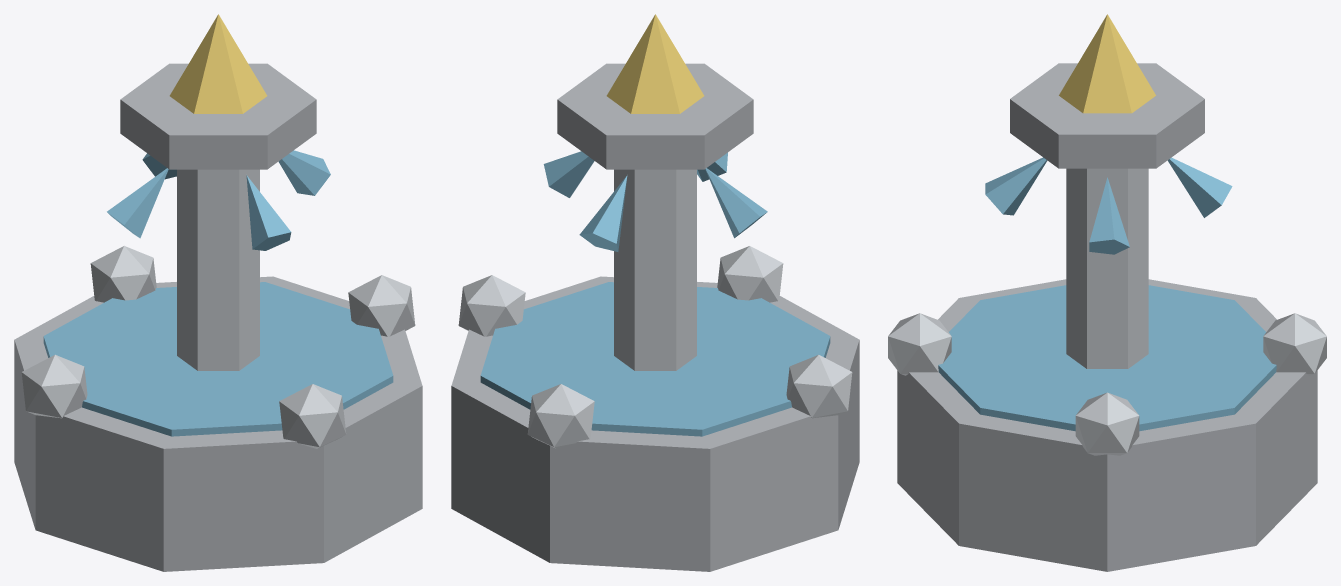
The model's file is town_fountain.glb.
The picture shows the model from 3 angles, left to right: view 1: azimuth 30°, elevation 25°; view 2: azimuth 150°, elevation 25°; view 3: azimuth 270°, elevation 25°; orthographic projection.
Parts seen in each view (by area): view 1: basin, water.001, column, bowl, finial, rim_3, rim_2, rim_0, rim_1, spout_3, spout_2, spout_0; view 2: basin, water.001, column, bowl, finial, rim_1, rim_2, rim_0, rim_3, spout_1, spout_2, spout_0; view 3: basin, water.001, column, bowl, finial, rim_0, rim_1, rim_3, spout_3, spout_0, spout_1.
Part boxes in pixels (<box>): basin: <box>14,276,422,571</box>; water.001: <box>43,282,393,436</box>; column: <box>177,169,259,370</box>; bowl: <box>120,63,316,169</box>; finial: <box>169,14,267,113</box>; rim_3: <box>279,384,346,448</box>; rim_2: <box>21,354,87,418</box>; rim_0: <box>348,275,415,336</box>; rim_1: <box>90,246,156,302</box>; spout_3: <box>246,175,291,250</box>; spout_2: <box>107,168,168,238</box>; spout_0: <box>278,150,330,195</box>; basin: <box>451,276,859,571</box>; water.001: <box>480,282,830,436</box>; column: <box>614,169,696,370</box>; bowl: <box>557,63,753,169</box>; finial: <box>606,14,704,113</box>; rim_1: <box>527,384,594,448</box>; rim_2: <box>786,354,852,418</box>; rim_0: <box>458,275,525,336</box>; rim_3: <box>717,246,783,302</box>; spout_1: <box>579,175,627,251</box>; spout_2: <box>705,168,767,238</box>; spout_0: <box>543,151,594,197</box>; basin: <box>897,279,1317,571</box>; water.001: <box>938,285,1276,431</box>; column: <box>1066,168,1148,368</box>; bowl: <box>1010,63,1204,168</box>; finial: <box>1059,14,1155,113</box>; rim_0: <box>1075,392,1139,455</box>; rim_1: <box>1263,313,1326,375</box>; rim_3: <box>888,313,951,375</box>; spout_3: <box>985,157,1047,215</box>; spout_0: <box>1089,177,1129,254</box>; spout_1: <box>1167,157,1232,217</box>.
Size of the model in its own units: 1.18 by 1.38 by 1.17.
